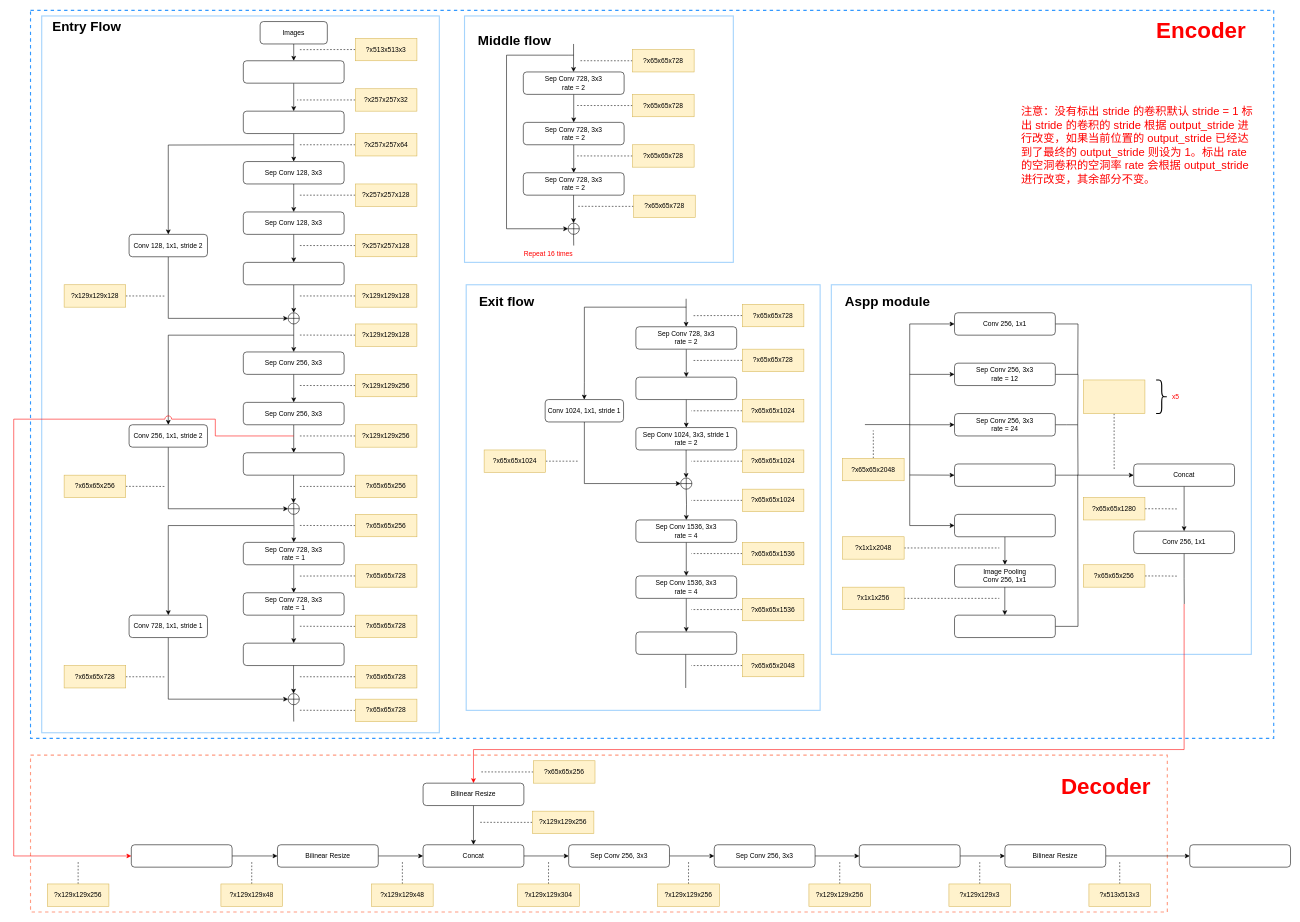
Image size: 1300x922. Some labels were removed from this diagram. The box of each missing label's shape, as (x1, y1, x2, y2) in pixels:
?x65x65x256 ... ?x65x65x256: (1083, 379, 1145, 414)
Conv 32, 3x3, stride 2: (243, 60, 344, 83)
Conv 48, 1x1: (131, 844, 232, 867)
Conv 64, 3x3: (243, 111, 344, 134)
Image Pooling AvgPool2D: (954, 514, 1055, 537)
Image Pooling Bilinear Resize: (954, 615, 1055, 638)
logits Conv 3, 1x1: (859, 844, 960, 867)
Prediction: (1189, 844, 1291, 867)
Sep Conv 1024, 3x3 rate = 2: (635, 377, 737, 400)
Sep Conv 128, 3x3, stride 2: (243, 262, 344, 285)
Sep Conv 2048, 3x3 rate = 4: (635, 631, 737, 654)
Sep Conv 256, 3x3 rate = 36: (954, 463, 1055, 486)
Sep Conv 256, 3x3, stride 2: (243, 452, 344, 475)
Sep Conv 728, 3x3, stride 1 rate = 1: (243, 643, 344, 666)
